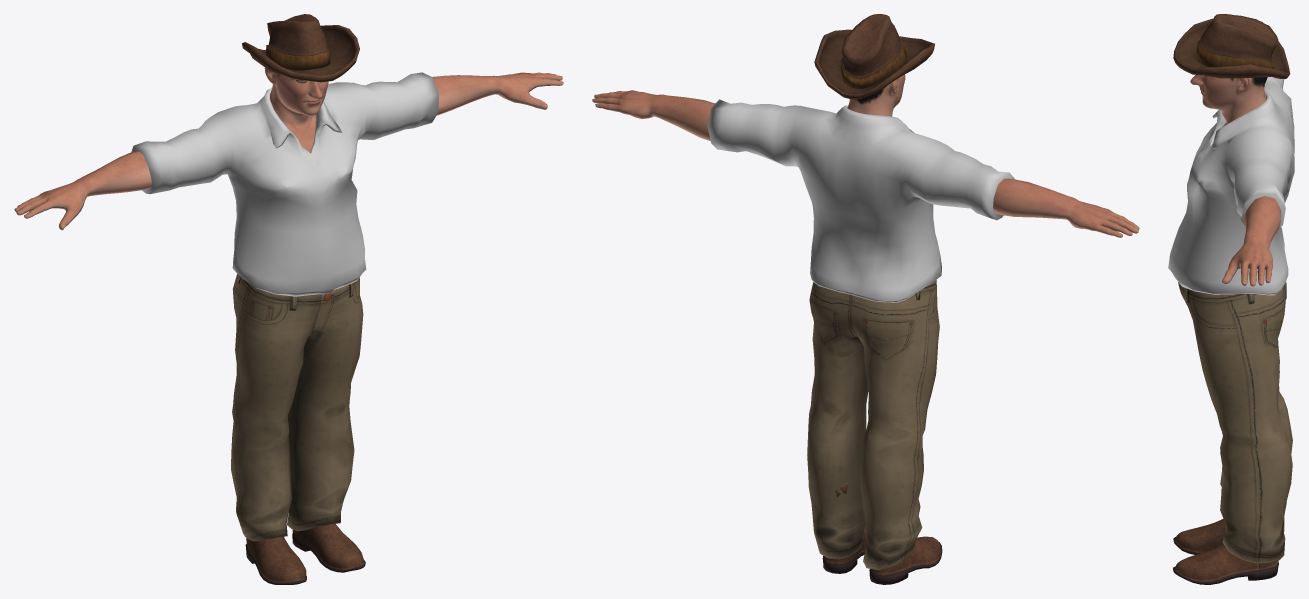
The model's file is NPC6.obj.
3 renders of one model, left to right at view 1: azimuth 30°, elevation 25°; view 2: azimuth 150°, elevation 25°; view 3: azimuth 270°, elevation 25°, orthographic.
Visible parts, largest first — view 1: Tops, Bottoms, Body, Hats, Shoes; view 2: Tops, Bottoms, Body, Hats, Shoes; view 3: Bottoms, Tops, Hats, Body, Shoes.
Boxes of the visible parts, left/top/right/bottom form: Tops: left=131, top=72, right=438, bottom=296; Bottoms: left=231, top=273, right=363, bottom=541; Body: left=14, top=68, right=563, bottom=230; Hats: left=242, top=14, right=359, bottom=82; Shoes: left=245, top=523, right=365, bottom=584; Tops: left=707, top=99, right=1015, bottom=302; Bottoms: left=807, top=280, right=939, bottom=570; Body: left=592, top=74, right=1139, bottom=237; Hats: left=814, top=14, right=934, bottom=99; Shoes: left=822, top=482, right=942, bottom=584; Bottoms: left=1178, top=282, right=1292, bottom=563; Tops: left=1168, top=77, right=1294, bottom=295; Hats: left=1173, top=14, right=1290, bottom=78; Body: left=1190, top=21, right=1281, bottom=286; Shoes: left=1173, top=519, right=1278, bottom=584.
Bounding box in the file's own units: 192 × 184 × 38.48.
